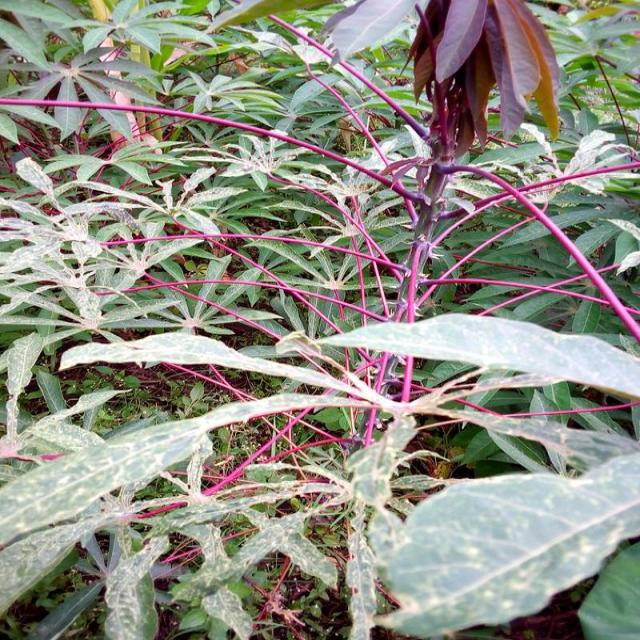cassava leaf: (2, 1, 640, 637), (368, 442, 640, 636), (303, 310, 640, 404)
